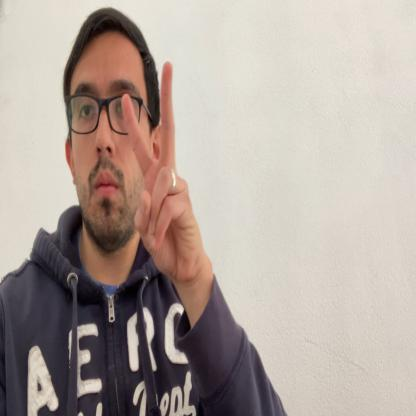V: (122, 61, 199, 280)
